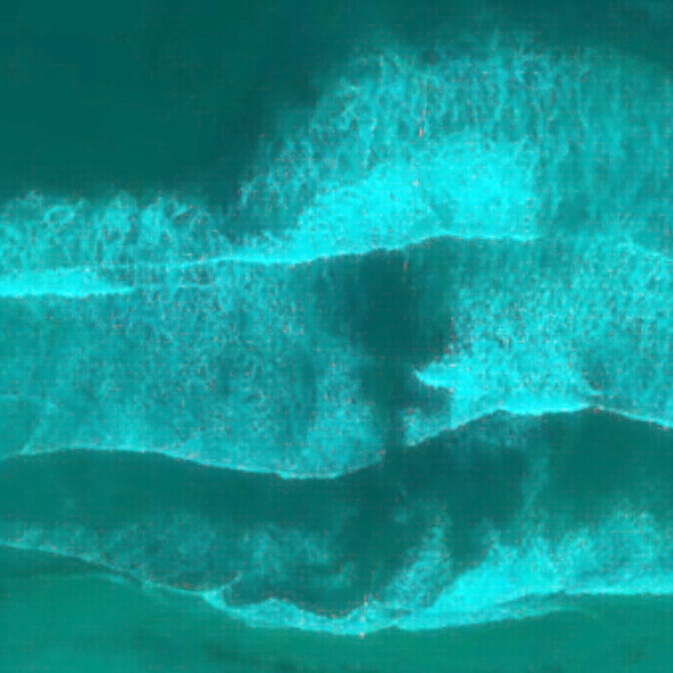rip_current: (261, 35, 496, 588)
